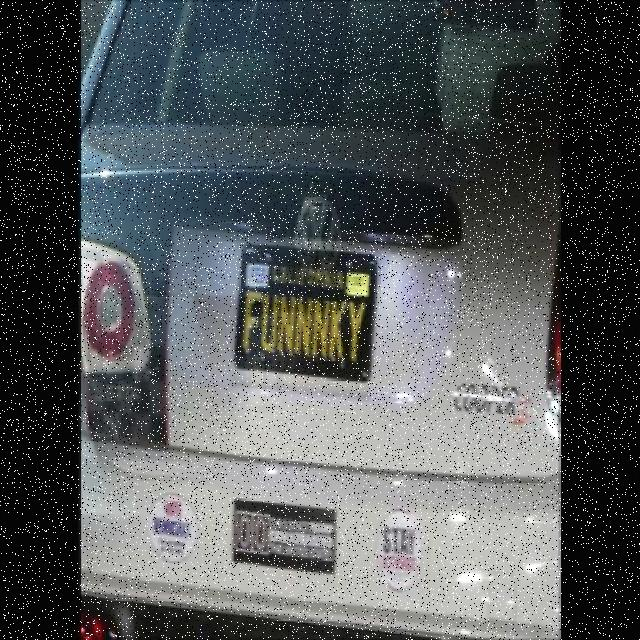licenseplate: (236, 244, 367, 384)
